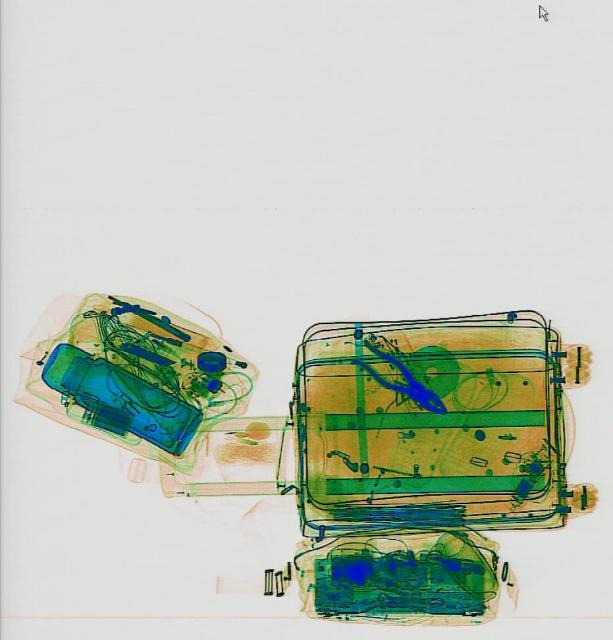Pliers: (345, 337, 454, 423)
